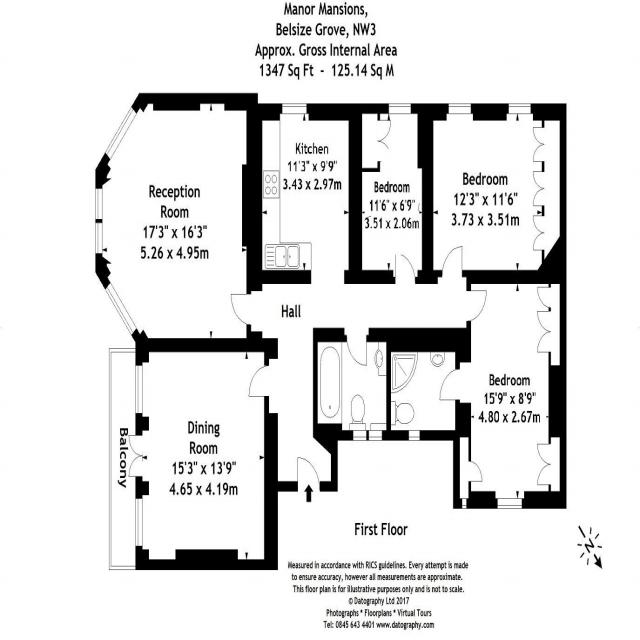DOOR: (297, 456, 321, 493), (230, 292, 252, 326), (466, 289, 487, 323), (441, 245, 463, 277), (439, 367, 459, 402), (346, 335, 368, 366), (249, 365, 270, 397), (395, 253, 416, 285)
ROOM: (95, 92, 263, 353), (128, 329, 278, 570), (439, 270, 567, 509), (418, 103, 567, 284), (242, 103, 362, 284), (348, 103, 434, 285)
WINDOW: (105, 282, 137, 335), (105, 107, 136, 160), (135, 498, 143, 547), (135, 365, 142, 413), (497, 498, 522, 509), (282, 103, 307, 114), (95, 222, 103, 254), (448, 103, 471, 114), (509, 103, 531, 114), (389, 103, 411, 114), (95, 188, 102, 219), (353, 430, 367, 441), (368, 430, 382, 441), (408, 430, 420, 441)
